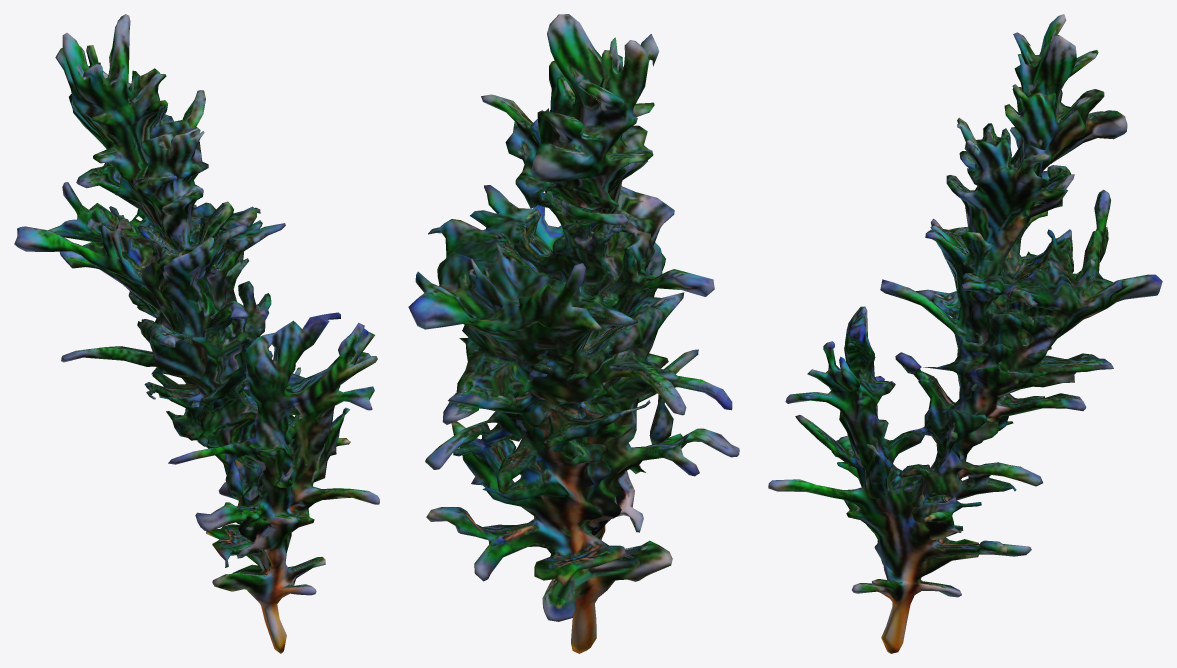
Rendered from 64fdf857ff51_rosemary_min.fbx.
3 views of the same model, side by side, from view 1: azimuth 30°, elevation 25°; view 2: azimuth 150°, elevation 25°; view 3: azimuth 270°, elevation 25° (orthographic). The views are drawn at different scales.
Visible parts, largest first — view 1: mesh; view 2: mesh; view 3: mesh.
Boxes of the visible parts, left/top/right/bottom form: mesh: left=14, top=14, right=379, bottom=653; mesh: left=408, top=14, right=739, bottom=653; mesh: left=768, top=14, right=1162, bottom=653.
Size of the model in its own units: 48.25 by 99.93 by 61.23.
